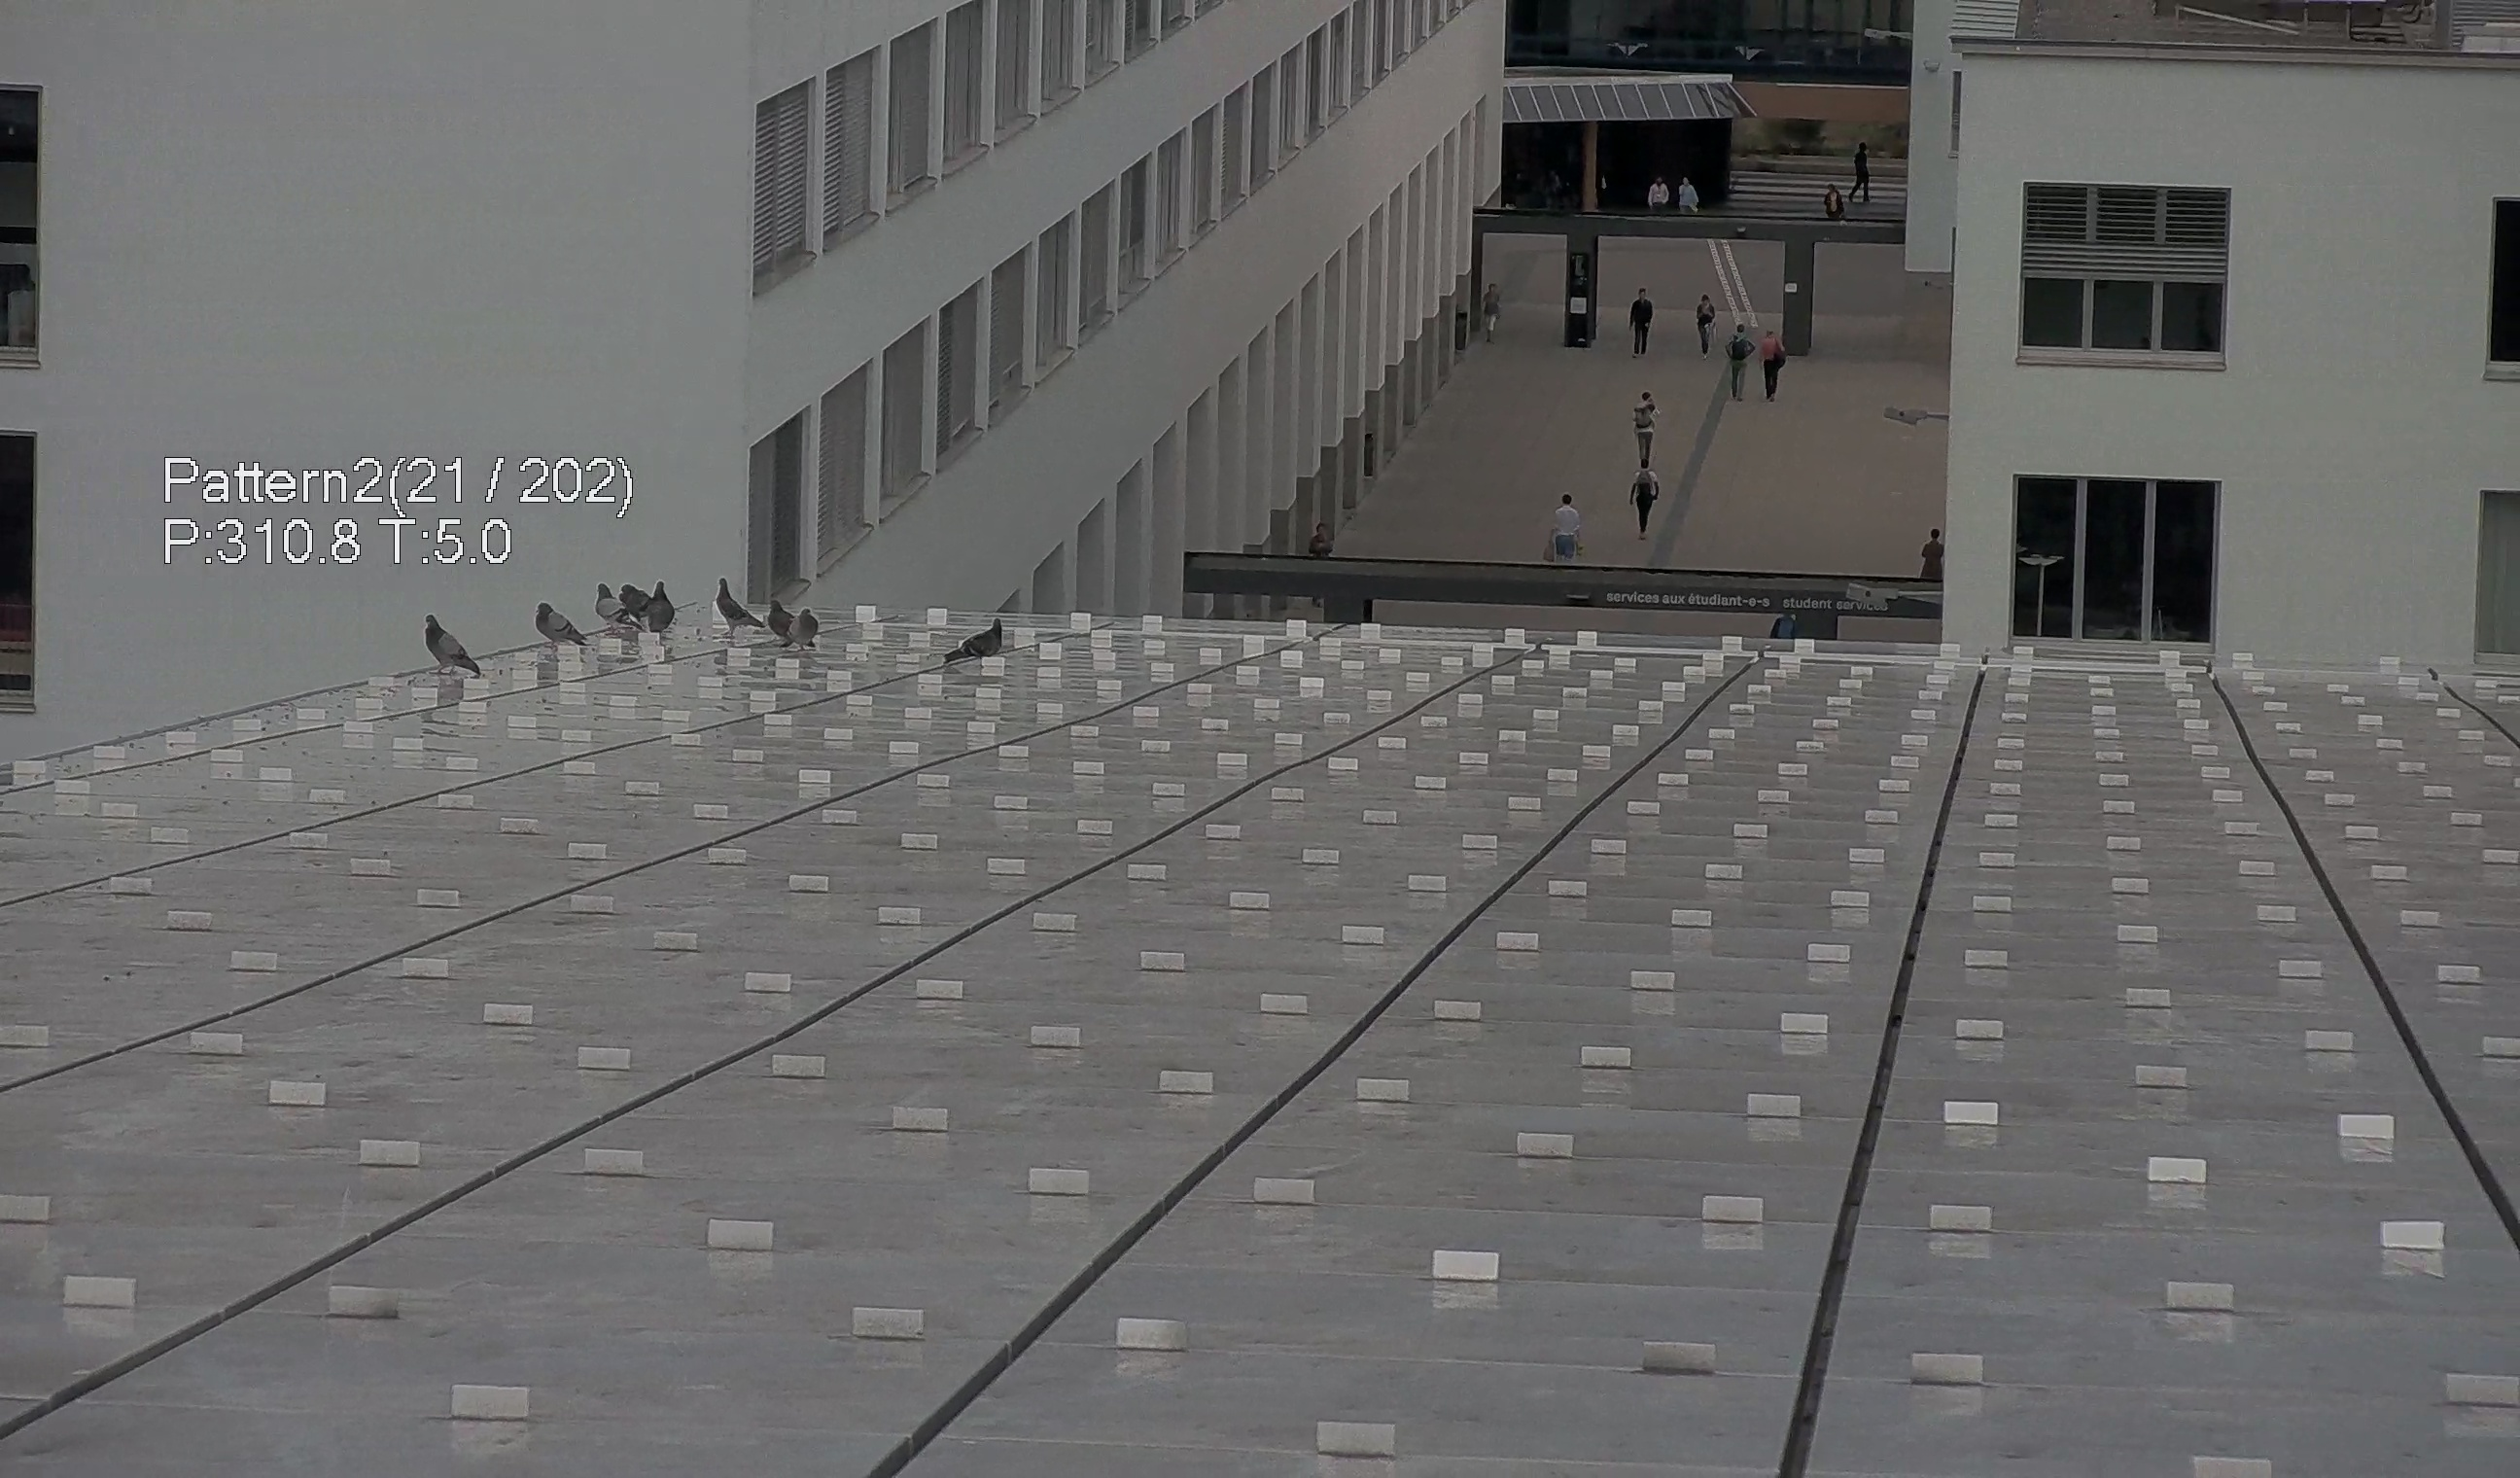Pigeon: (401, 605, 478, 684), (698, 574, 765, 644), (524, 598, 587, 655), (943, 614, 1006, 670), (594, 581, 642, 639), (645, 575, 679, 640), (615, 579, 661, 623), (788, 605, 821, 655), (765, 598, 793, 644)
